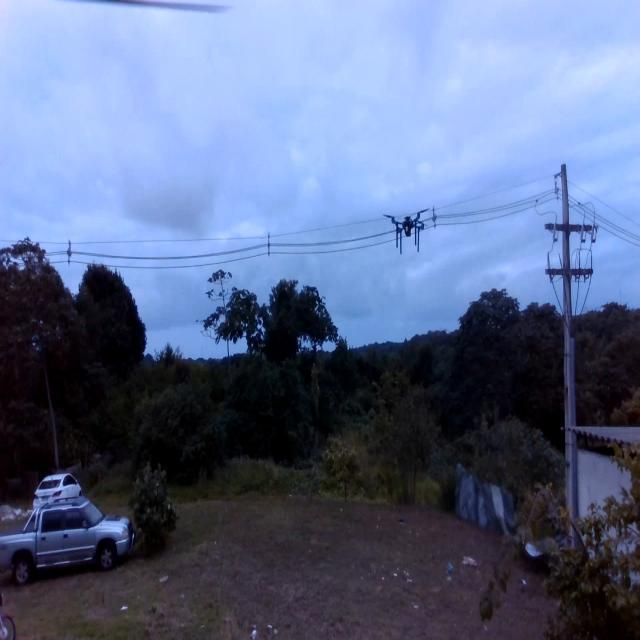-uav-: (375, 199, 443, 268)
